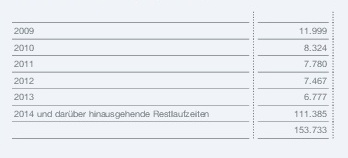table: (0, 0, 348, 158)
